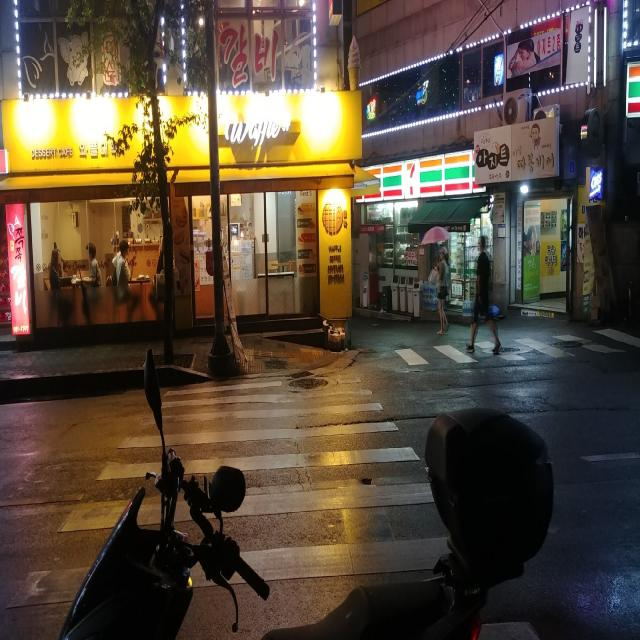횡단보도: (4, 371, 541, 640), (364, 326, 639, 358)
